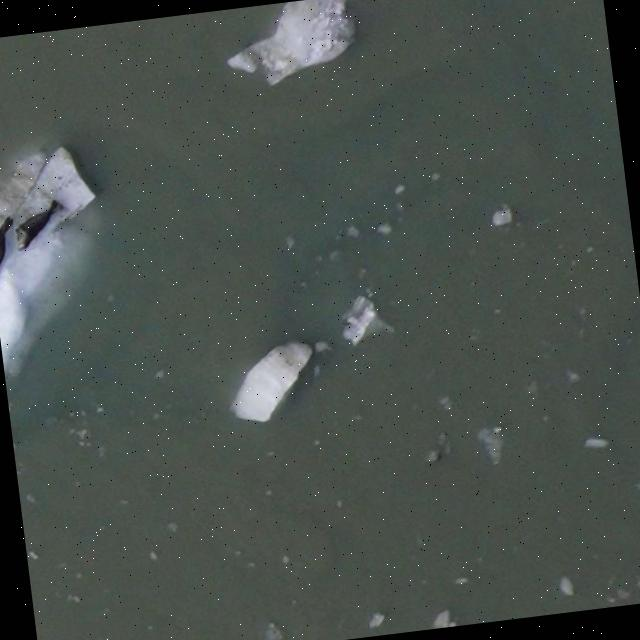seal: (4, 191, 63, 255)
